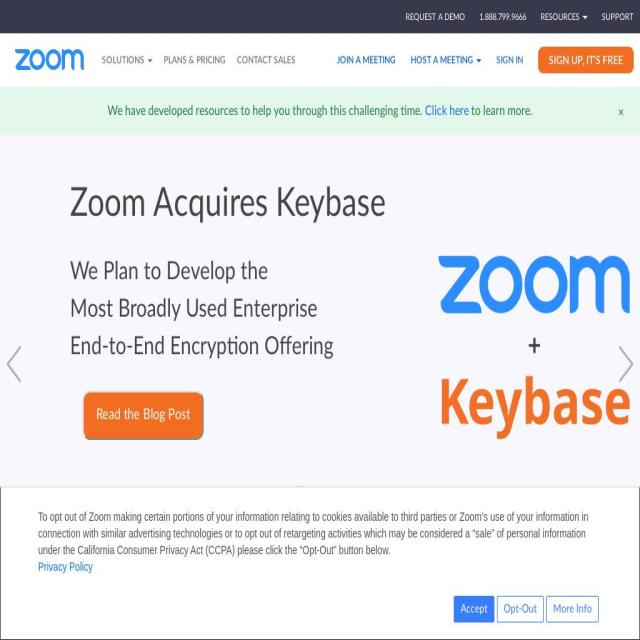button: (82, 391, 204, 440), (158, 33, 231, 87), (231, 33, 301, 87), (331, 33, 401, 87), (96, 33, 158, 87), (540, 585, 615, 623), (538, 46, 634, 73), (491, 33, 528, 87), (590, 573, 625, 620), (70, 410, 204, 422), (546, 596, 599, 622), (497, 596, 544, 622), (454, 596, 494, 622), (38, 558, 93, 575), (346, 512, 362, 536), (614, 104, 628, 121), (0, 0, 8, 10)
heading: (70, 178, 408, 228)
image: (0, 86, 640, 640), (15, 49, 84, 70), (596, 582, 619, 612), (6, 346, 23, 382), (617, 346, 634, 382), (346, 512, 362, 532), (328, 516, 338, 527), (313, 516, 322, 527), (298, 516, 306, 527)
link: (425, 104, 469, 118), (406, 12, 465, 22), (479, 12, 526, 22), (602, 12, 634, 22)
text: (0, 86, 640, 640), (94, 566, 540, 640), (38, 510, 589, 557), (70, 334, 334, 359), (70, 296, 318, 322), (70, 259, 268, 284), (107, 104, 425, 118), (468, 104, 532, 118), (411, 55, 475, 65), (102, 55, 146, 65), (541, 12, 581, 22)
